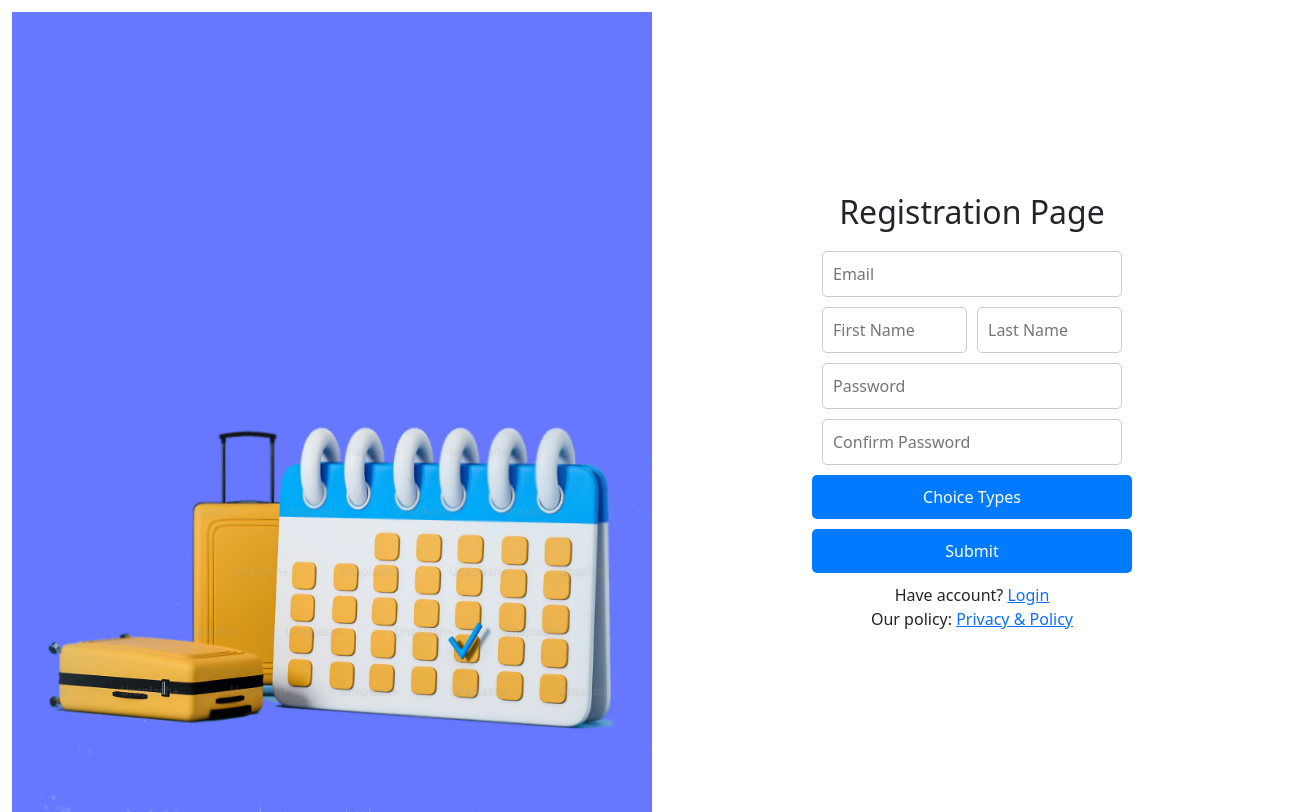
Test case: RegistrationPage › validates empty form fields on submit
The image size is (1292, 812).
Click the button "Submit" at (972, 551), box [812,529,1132,573]
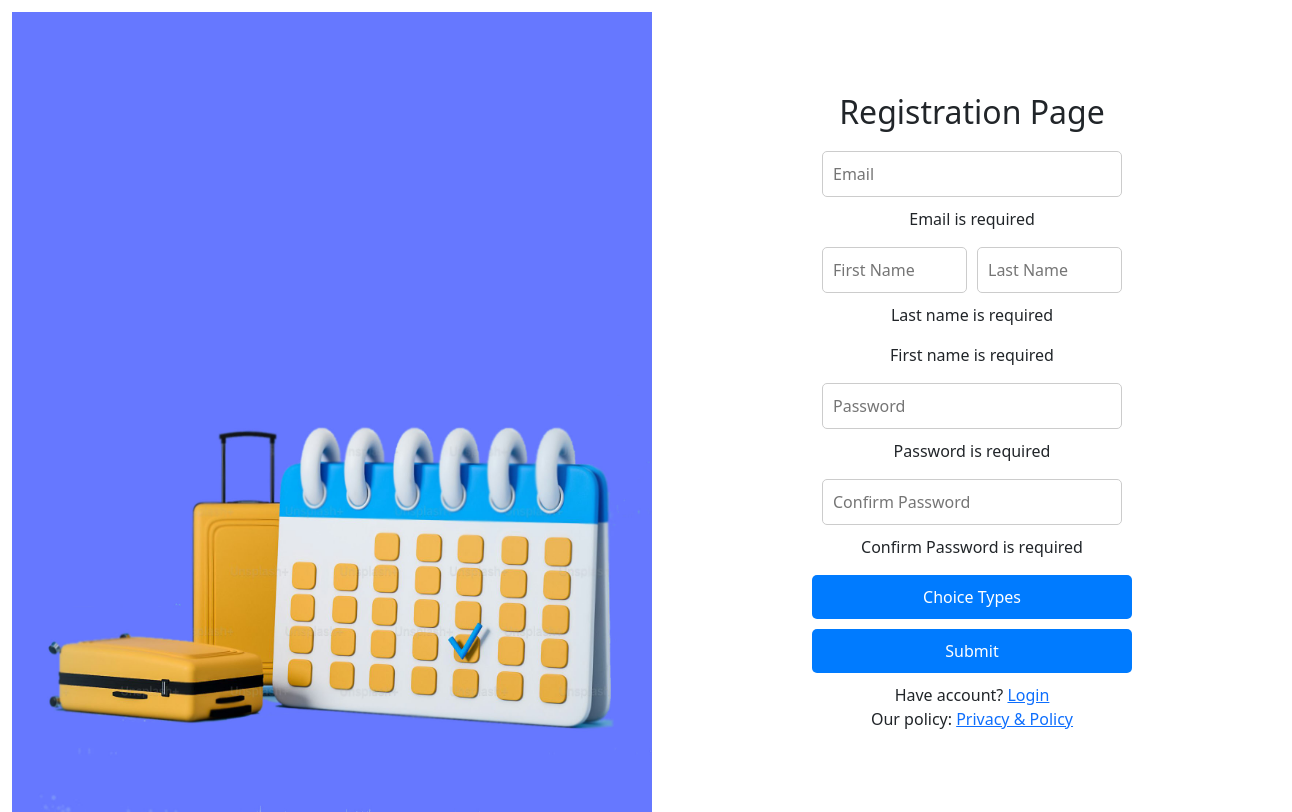
Expected: the text "First name is required" is shown, [890,343,1054,367]
Expected: the text "Last name is required" is shown, [891,303,1053,327]
Expected: the text "Email is required" is shown, [909,207,1035,231]
